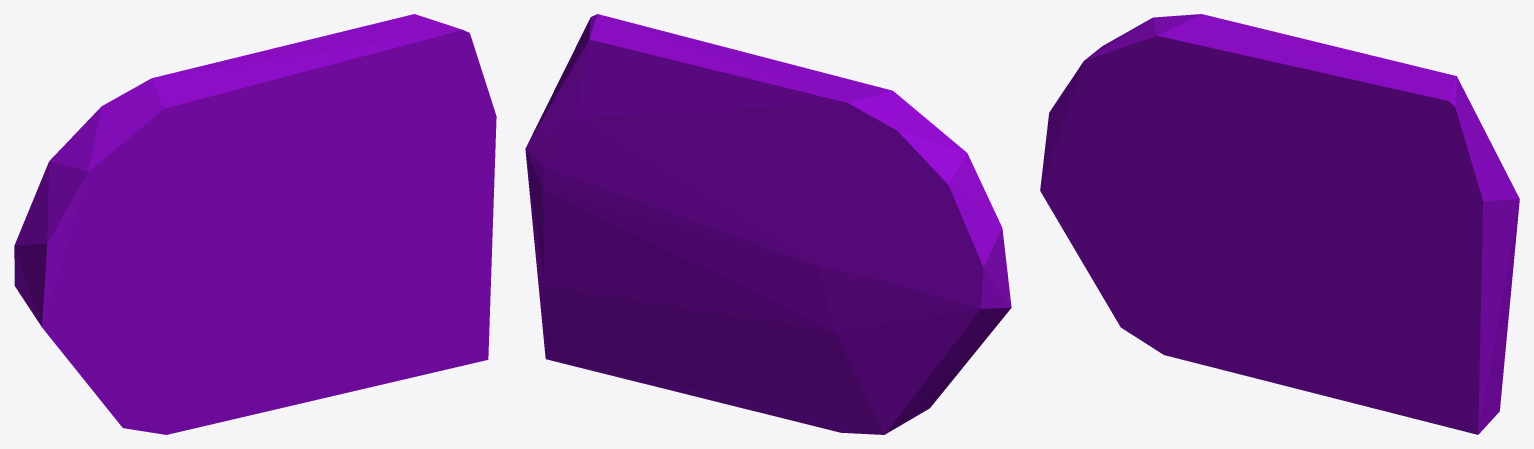
The model's file is hip-pitch-mirror_convex_piece_003.obj.
3 views of the same model, side by side, from view 1: azimuth 30°, elevation 25°; view 2: azimuth 150°, elevation 25°; view 3: azimuth 330°, elevation 25° (orthographic). The views are drawn at different scales.
Size of the model in its own units: 0.1865 by 0.1323 by 0.0277.
